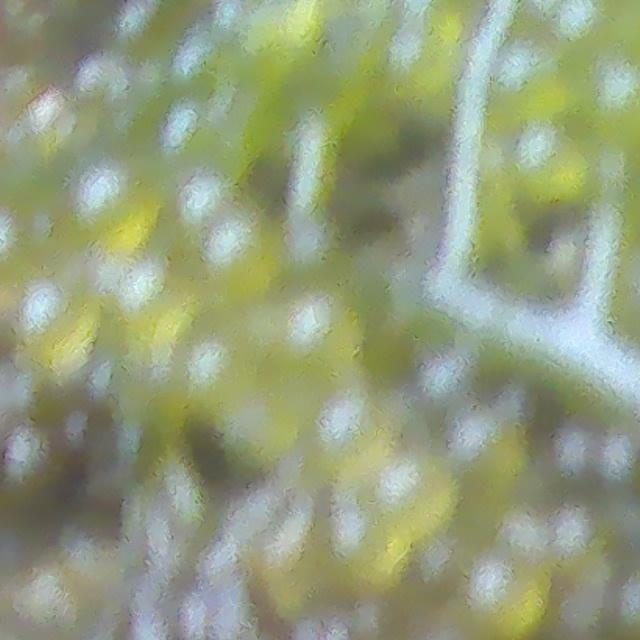SeaGrape: (107, 265, 196, 359), (197, 202, 283, 294), (9, 274, 87, 362), (70, 160, 148, 243), (282, 297, 361, 375), (548, 0, 613, 47), (75, 55, 128, 107)
